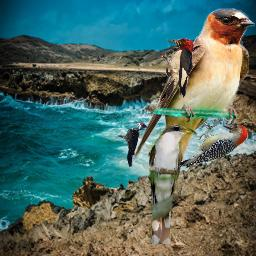Cuckoo: (148, 123, 197, 244)
Swallow: (132, 8, 255, 183)
Woodpecker: (171, 121, 249, 169), (161, 38, 194, 101), (117, 121, 148, 167)
